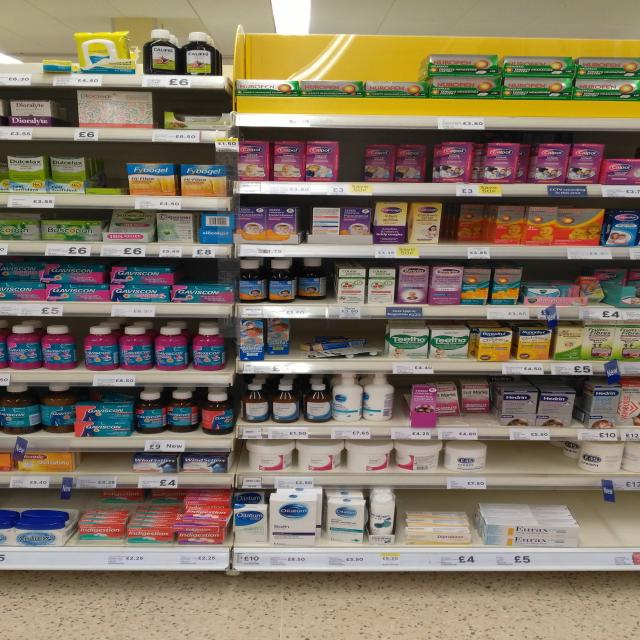void: (500, 440, 570, 492), (586, 501, 640, 568), (0, 25, 37, 88), (80, 453, 130, 491), (610, 136, 640, 197), (611, 266, 640, 322)
